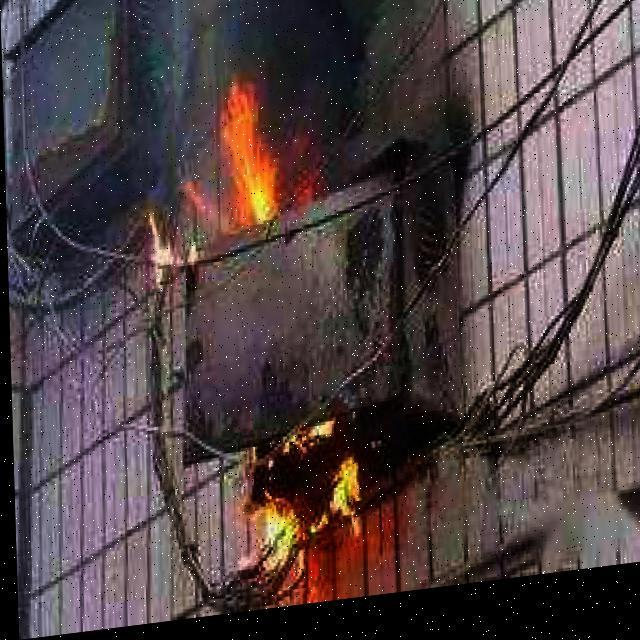Fire: (143, 77, 330, 287), (237, 426, 370, 582)
